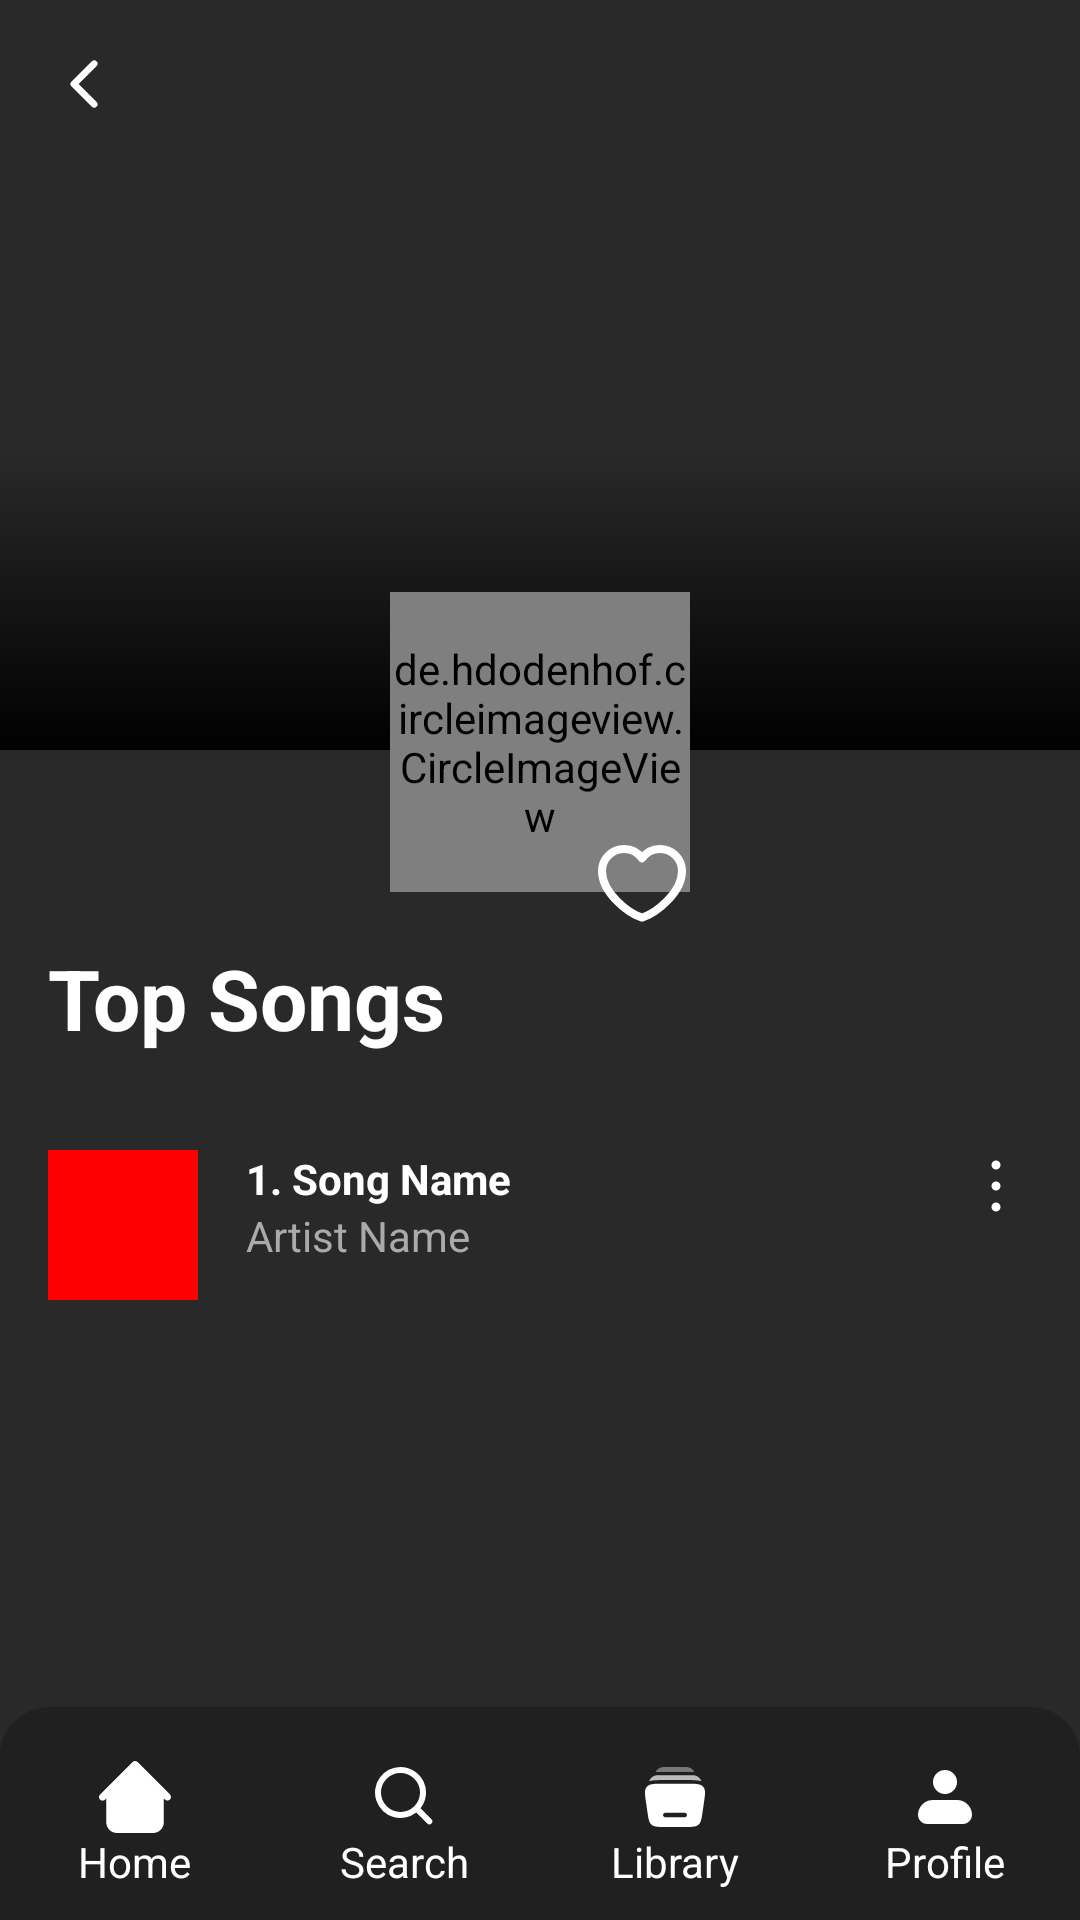

Icon click points for this 1080×1920 phone screenshot, format (x,y):
back: (84,84)
kebab: (996,1186)
like: (642,877)
